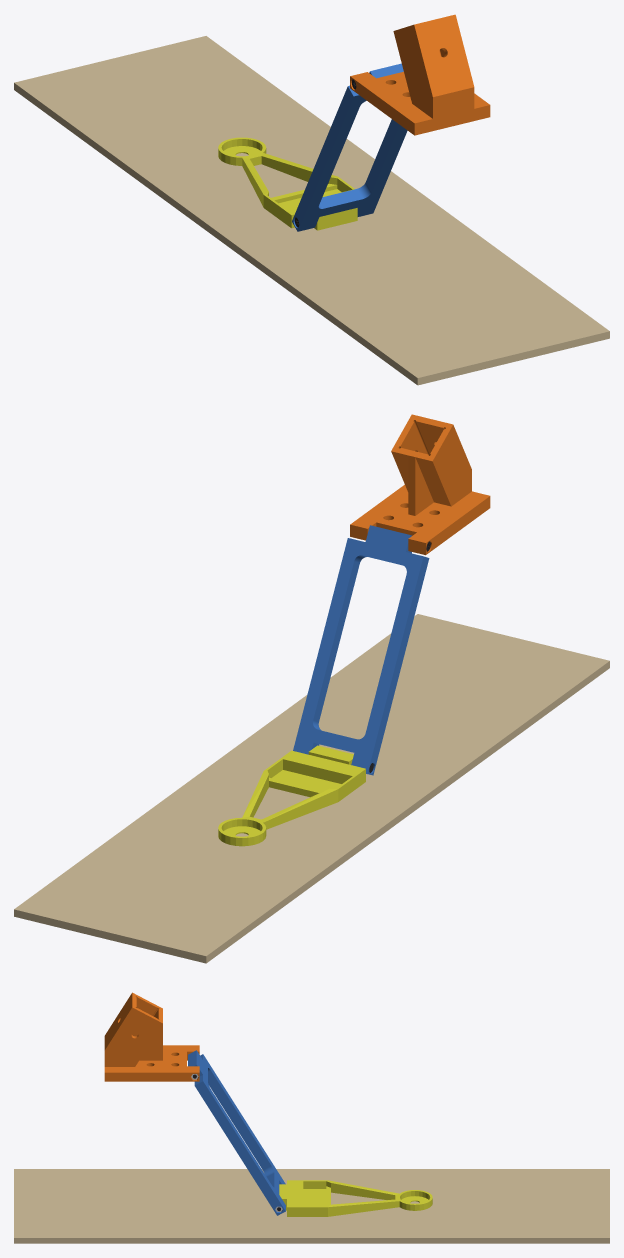
File: carriage_chain_xrite.glb
3 views of the same model, one above another, from view 1: azimuth 30°, elevation 25°; view 2: azimuth 150°, elevation 25°; view 3: azimuth 270°, elevation 25° (orthographic). The views are drawn at different scales.
Parts seen in each view (by area): view 1: table, carriage_plate, link1, xrite_i1_plate; view 2: table, link1, carriage_plate, xrite_i1_plate; view 3: table, carriage_plate, link1, xrite_i1_plate.
Boxes of the visible parts, left/top/right/bottom form: table: left=14, top=36, right=609, bottom=385; carriage_plate: left=350, top=14, right=490, bottom=135; link1: left=292, top=63, right=407, bottom=231; xrite_i1_plate: left=218, top=137, right=357, bottom=230; table: left=14, top=614, right=609, bottom=963; link1: left=293, top=525, right=429, bottom=775; carriage_plate: left=350, top=414, right=490, bottom=555; xrite_i1_plate: left=218, top=745, right=365, bottom=846; table: left=14, top=1169, right=609, bottom=1243; carriage_plate: left=104, top=992, right=199, bottom=1081; link1: left=188, top=1050, right=285, bottom=1215; xrite_i1_plate: left=279, top=1180, right=432, bottom=1216.
Bounding box in the file's own units: 165 × 233 × 600.
